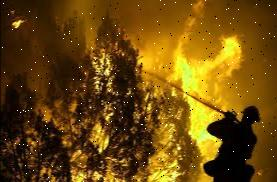fire: (55, 0, 242, 182)
